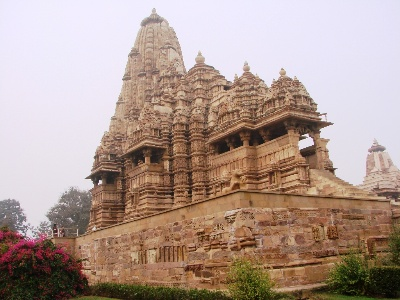gopuram: (117, 23, 190, 127)
mandapa: (253, 105, 332, 159), (199, 121, 258, 157), (120, 141, 171, 175), (79, 159, 123, 191)
